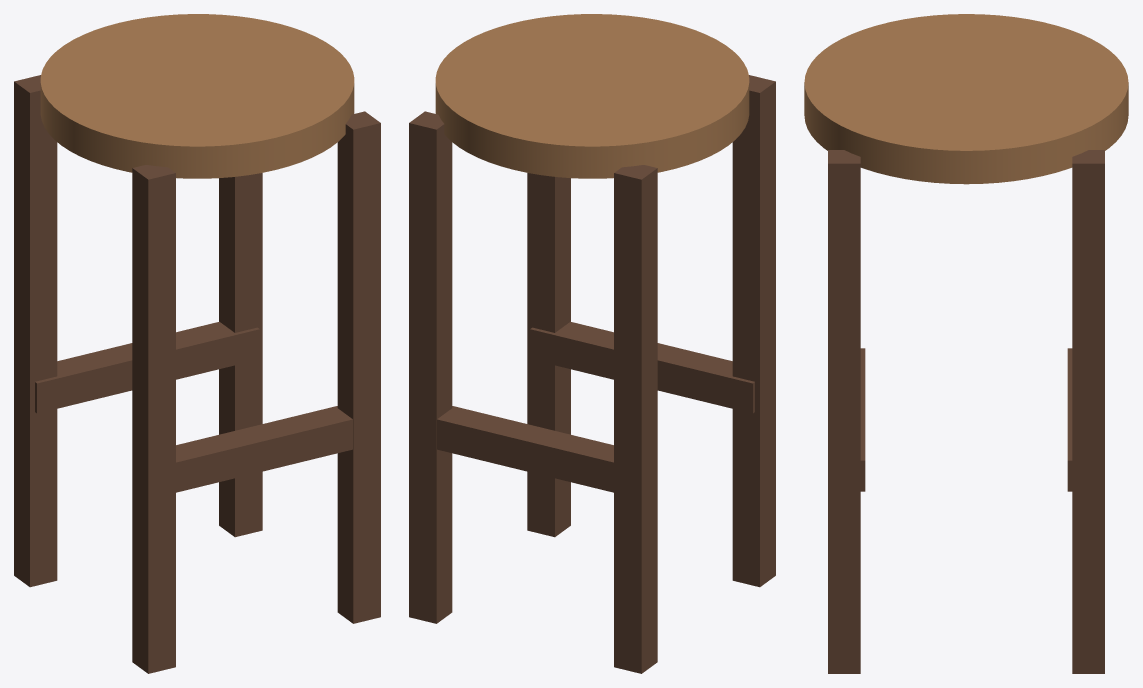
The model's file is bar_stool.glb.
3 renders of one model, left to right at view 1: azimuth 30°, elevation 25°; view 2: azimuth 150°, elevation 25°; view 3: azimuth 270°, elevation 25°, orthographic. The views are drawn at different scales.
Visible parts, largest first — view 1: Stool seat, Leg.008, Leg.010, Leg.009, Leg.011, Footrest, Footrest.001; view 2: Stool seat, Leg.009, Leg.011, Leg.008, Leg.010, Footrest.001, Footrest; view 3: Stool seat, Leg.010, Leg.011, Footrest, Footrest.001.
Boxes of the visible parts, x1=… form: Stool seat: x1=40, y1=14, x2=354, y2=178; Leg.008: x1=132, y1=165, x2=175, y2=673; Leg.010: x1=337, y1=111, x2=380, y2=623; Leg.009: x1=14, y1=75, x2=57, y2=587; Leg.011: x1=219, y1=173, x2=262, y2=537; Footrest: x1=176, y1=406, x2=352, y2=492; Footrest.001: x1=35, y1=321, x2=259, y2=413; Stool seat: x1=435, y1=14, x2=749, y2=178; Leg.009: x1=614, y1=165, x2=657, y2=673; Leg.011: x1=409, y1=111, x2=452, y2=623; Leg.008: x1=732, y1=75, x2=775, y2=587; Leg.010: x1=527, y1=173, x2=570, y2=537; Footrest.001: x1=437, y1=406, x2=613, y2=492; Footrest: x1=530, y1=321, x2=754, y2=413; Stool seat: x1=804, y1=14, x2=1128, y2=184; Leg.010: x1=828, y1=150, x2=860, y2=673; Leg.011: x1=1072, y1=150, x2=1104, y2=673; Footrest: x1=860, y1=348, x2=865, y2=491; Footrest.001: x1=1067, y1=348, x2=1072, y2=491.
Bounding box in the file's own units: 0.415 × 0.753 × 0.415.
